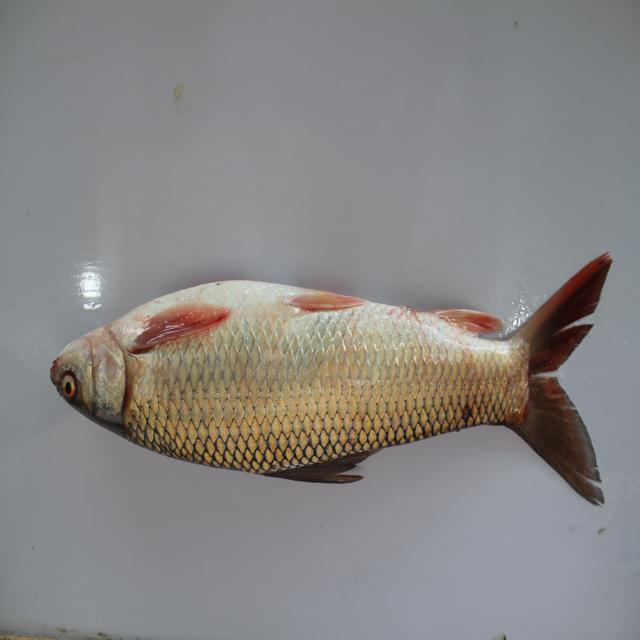Mori: (46, 250, 630, 529)
